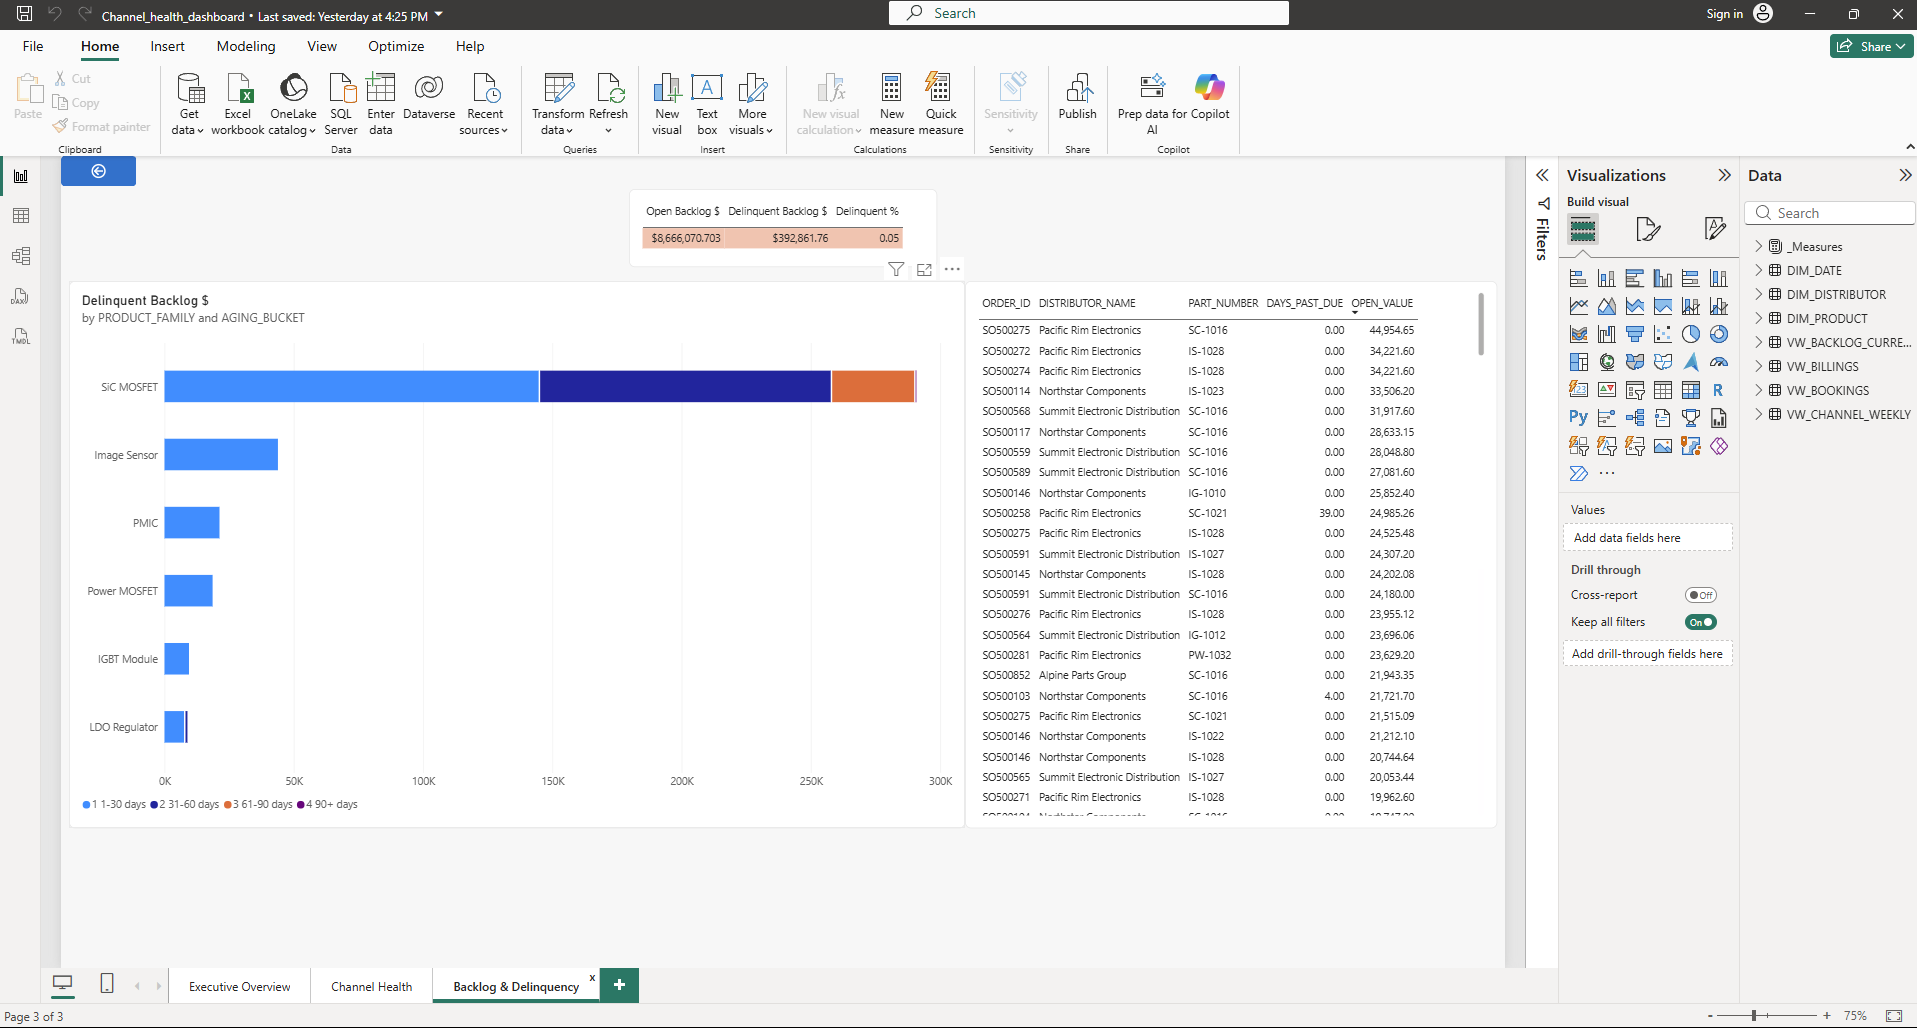

This screenshot's page, from the dashboard's own definition file:
{"tool":"powerbi","page":{"name":"Backlog & Delinquency","canvas":[1920,1080],"ordinal":2},"visuals":[{"type":"tableEx","fields":{"Values":["_Measures.Open Backlog $","_Measures.Delinquent Backlog $","_Measures.Delinquent %"]},"box":[755.5,43.9,409.7,103.7],"z":0},{"type":"barChart","fields":{"Category":["DIM_PRODUCT.PRODUCT_FAMILY"],"Series":["VW_BACKLOG_CURRENT.AGING_BUCKET"],"Y":["_Measures.Delinquent Backlog $"]},"box":[10.6,166.3,1191.7,727.5],"z":1000},{"type":"actionButton","box":[0,0,100,40],"z":2000},{"type":"tableEx","fields":{"Values":["VW_BACKLOG_CURRENT.ORDER_ID","DIM_DISTRIBUTOR.DISTRIBUTOR_NAME","DIM_PRODUCT.PART_NUMBER","VW_BACKLOG_CURRENT.DAYS_PAST_DUE","VW_BACKLOG_CURRENT.OPEN_VALUE"]},"box":[1202.4,166.3,707.6,727.5],"z":3000}]}

Visuals, with their boxes on the page's 1920x1080 design canvas (x1, y1, x2, y2). These are canvas units, not pixel positions in the 1917x1028 screenshot, which may show the page scaled, cropped or inside an application window:
tableEx - _Measures.Open Backlog $ x _Measures.Delinquent Backlog $: crop(756, 44, 1165, 148)
barChart - DIM_PRODUCT.PRODUCT_FAMILY x VW_BACKLOG_CURRENT.AGING_BUCKET: crop(11, 166, 1202, 894)
actionButton: crop(0, 0, 100, 40)
tableEx - VW_BACKLOG_CURRENT.ORDER_ID x DIM_DISTRIBUTOR.DISTRIBUTOR_NAME: crop(1202, 166, 1910, 894)
